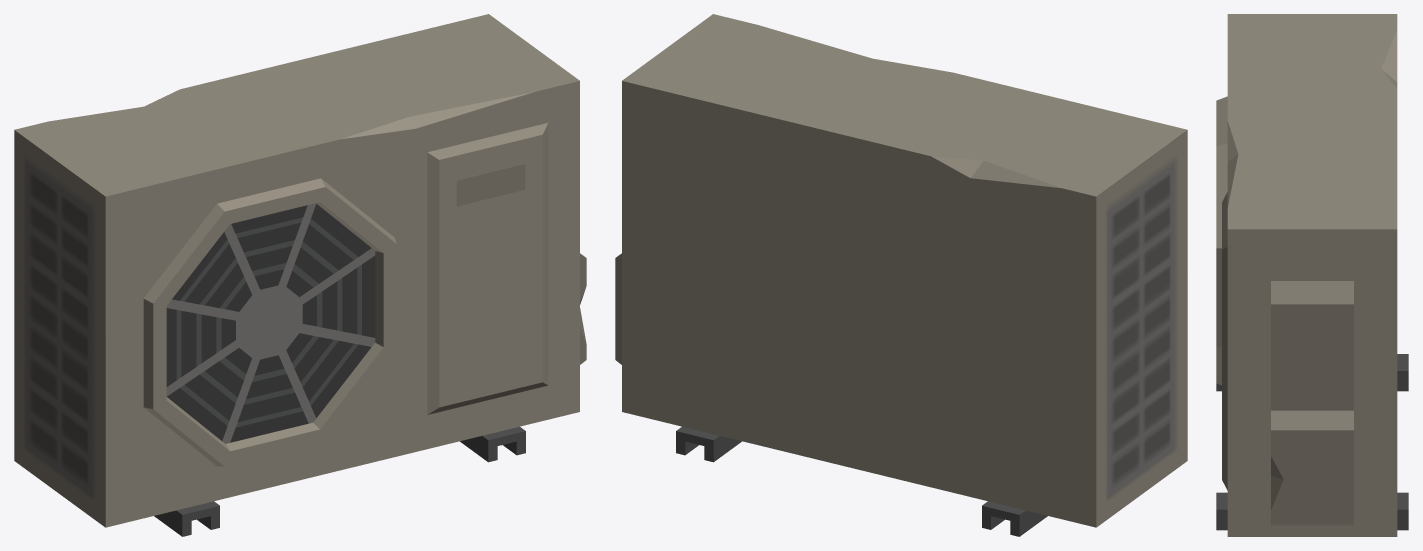
The model's file is SM_Props_AC_Outdoor.fbx.
3 views of the same model, side by side, from view 1: azimuth 30°, elevation 25°; view 2: azimuth 150°, elevation 25°; view 3: azimuth 270°, elevation 25° (orthographic). The views are drawn at different scales.
Parts seen in each view (by area): view 1: SM_Props_AC_Outdoor; view 2: SM_Props_AC_Outdoor; view 3: SM_Props_AC_Outdoor.
Part boxes in pixels (<box>): SM_Props_AC_Outdoor: <box>14,14,586,536</box>; SM_Props_AC_Outdoor: <box>615,14,1187,536</box>; SM_Props_AC_Outdoor: <box>1216,14,1408,536</box>.
Bounding box in the file's own units: 95.67 × 64 × 34.
